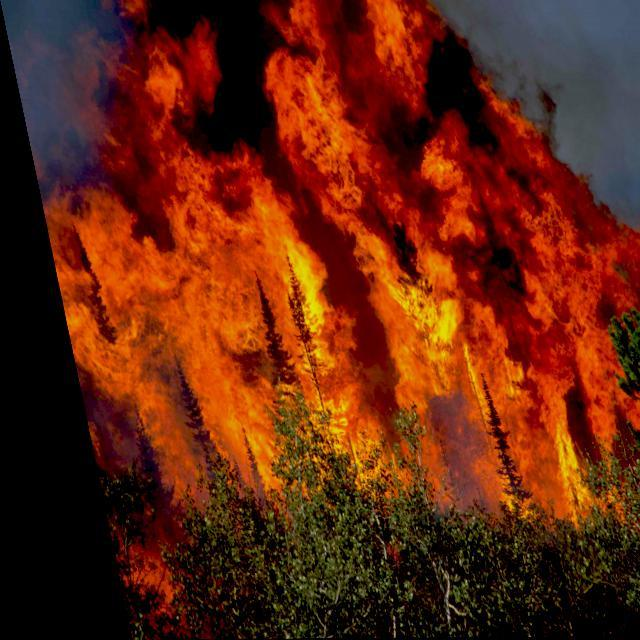Fire: (5, 4, 639, 529)
